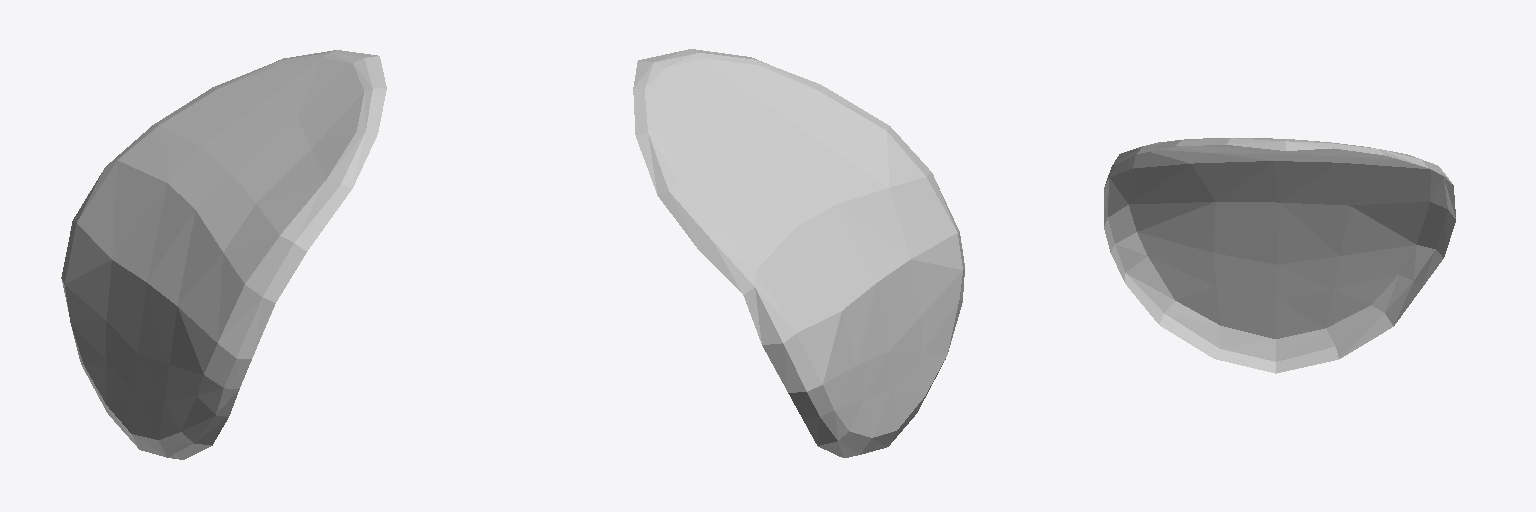
File: RElbowRoll_shiny.obj
The picture shows the model from 3 angles: view 1: azimuth 30°, elevation 25°; view 2: azimuth 150°, elevation 25°; view 3: azimuth 270°, elevation 25°; orthographic projection.
Bounding box in the file's own units: 0.5657 × 0.718 × 0.6799.